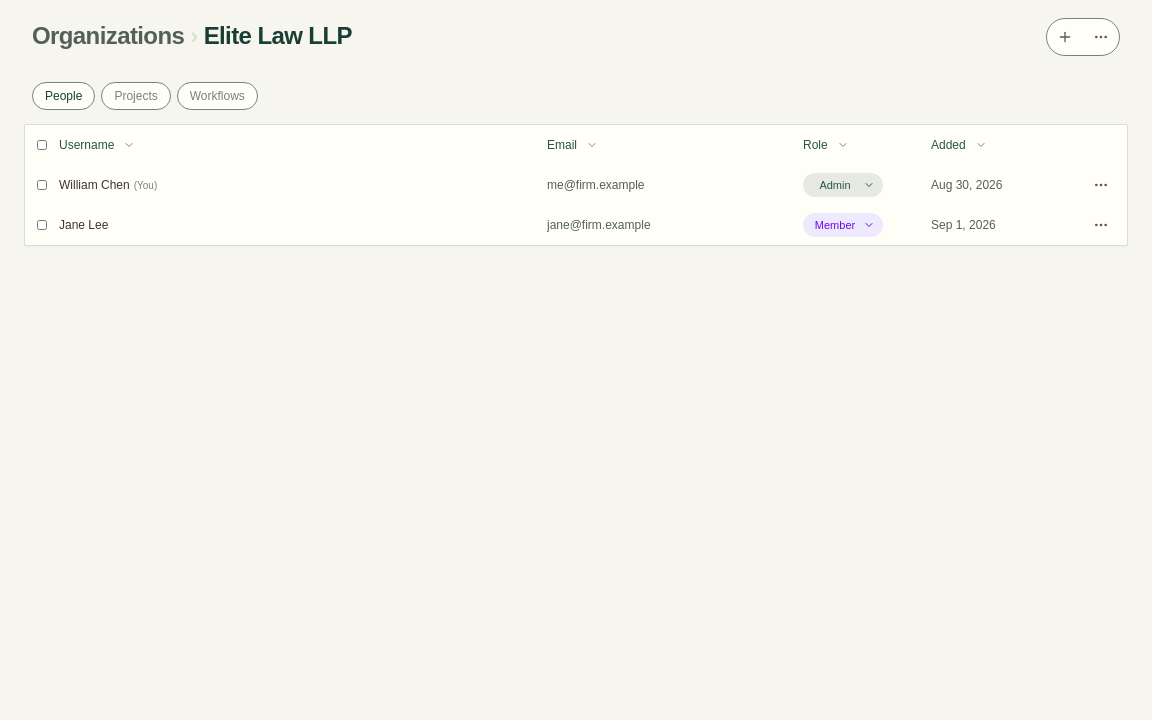
Test: OrganizationWorkspace › does not report a sent invitation as failed when the refresh rejects
Expected: the text "William Chen" is shown, [59, 177, 130, 193]
Step 1. Click the button named "Add member" → coordinates (1065, 37), box [1051, 23, 1079, 51]
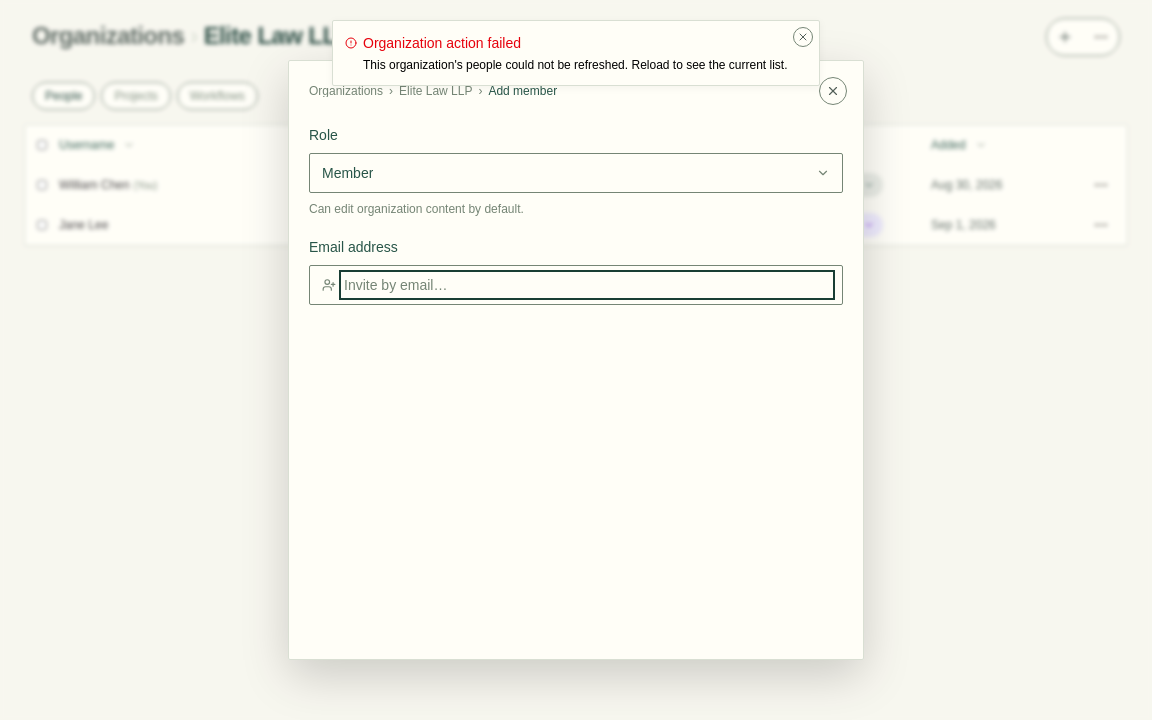
Step 2. Type "new@firm.example" into the field with placeholder "Invite by email…" → coordinates (587, 285), box [344, 275, 830, 295]
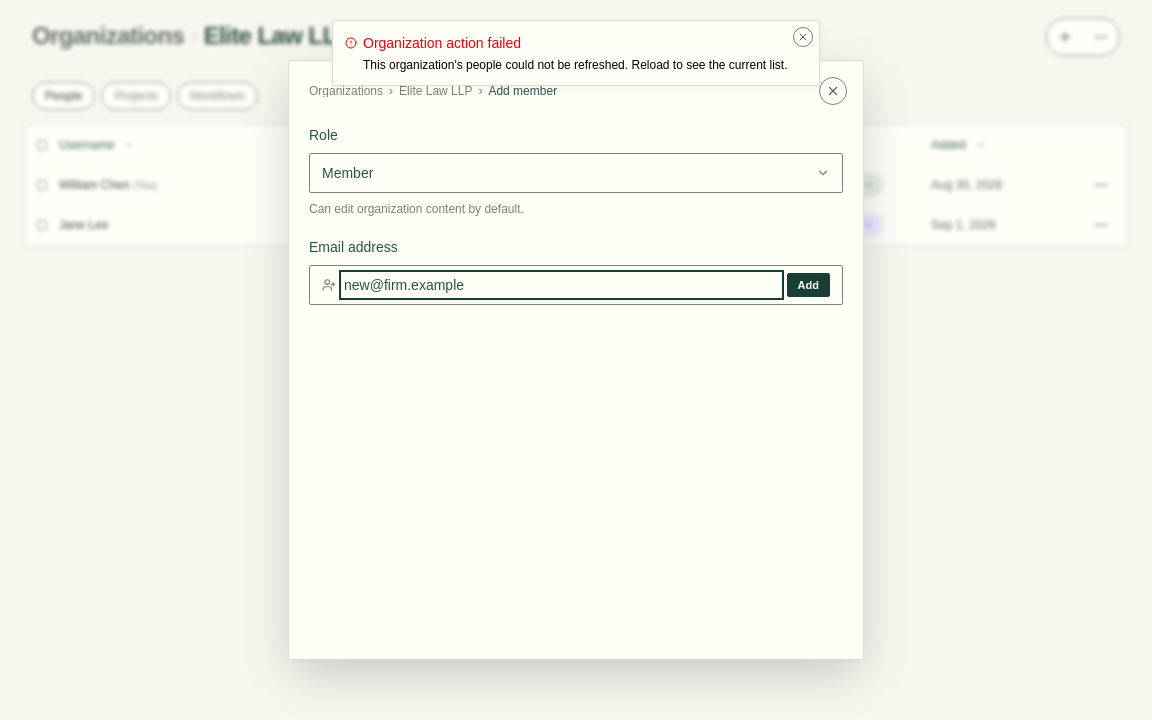
Step 3. Click the button named "Add" → coordinates (808, 285), box [787, 273, 830, 297]
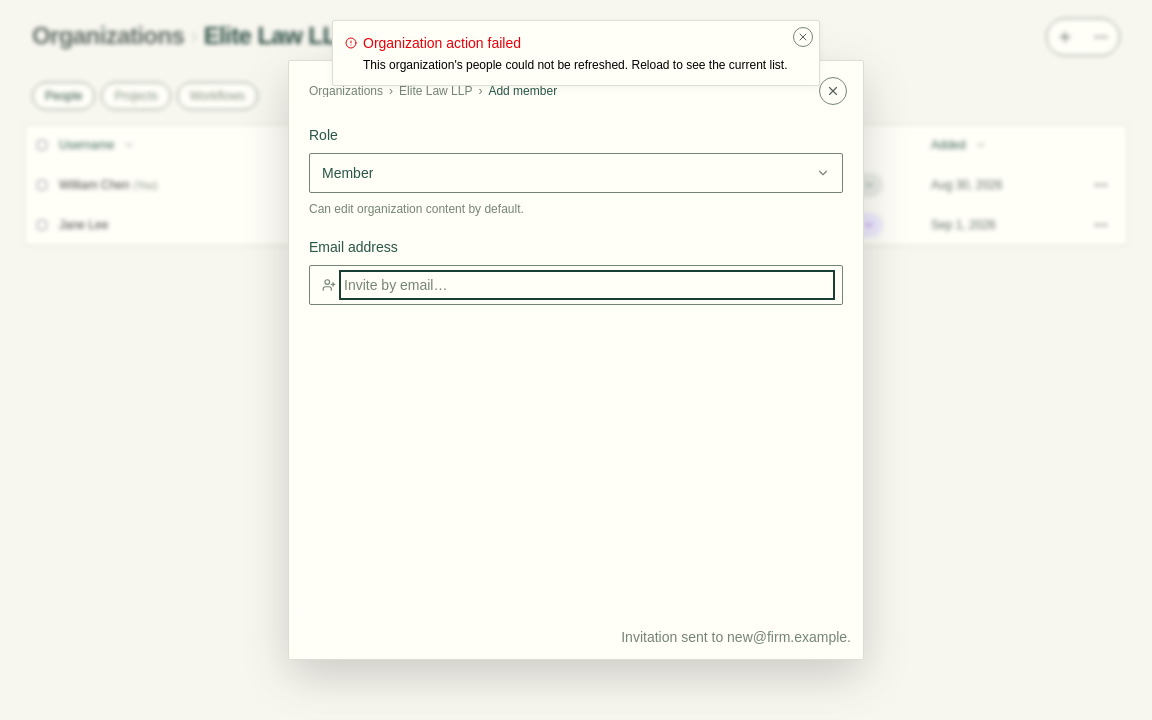
Expected: the text "Invitation sent to new@firm.example." is shown, [621, 627, 851, 647]
